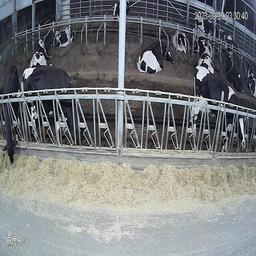cow: (23, 66, 89, 148), (190, 61, 244, 149), (1, 64, 22, 170), (135, 39, 175, 74), (223, 49, 244, 91), (194, 41, 214, 81), (29, 33, 52, 65), (54, 25, 76, 48), (194, 16, 217, 38), (113, 1, 130, 30), (171, 30, 188, 58), (218, 26, 234, 54), (246, 64, 256, 97)
